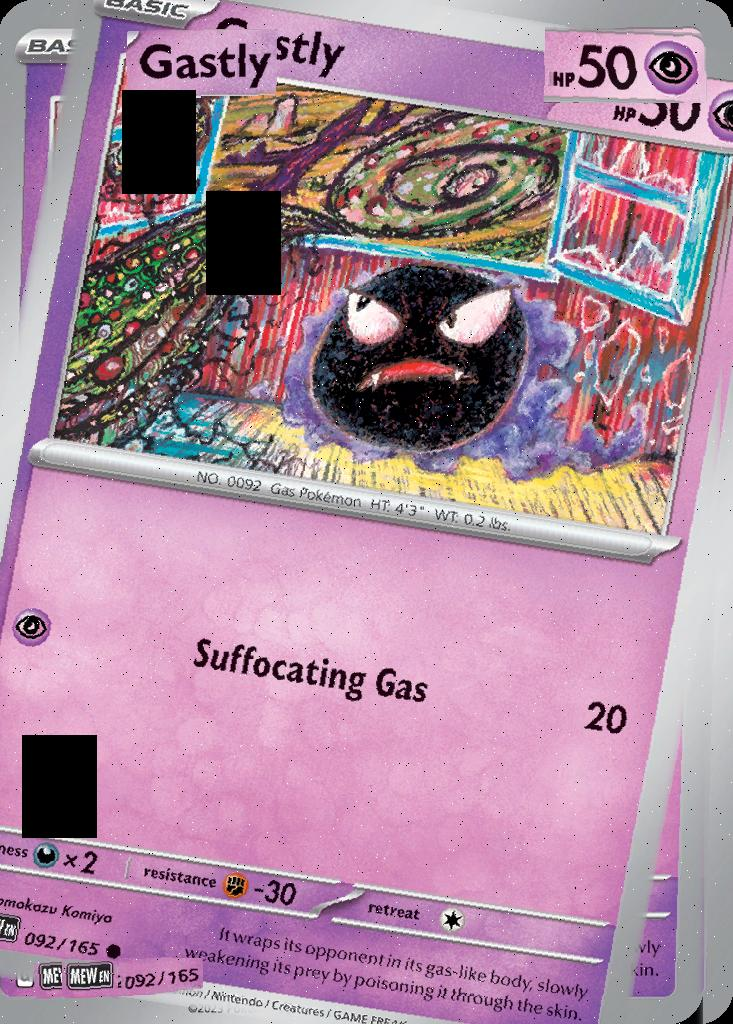card: (0, 0, 733, 1024)
hp: (547, 25, 707, 103)
name: (128, 30, 279, 98)
set num: (119, 959, 203, 997)
set symbol: (63, 959, 120, 998)
